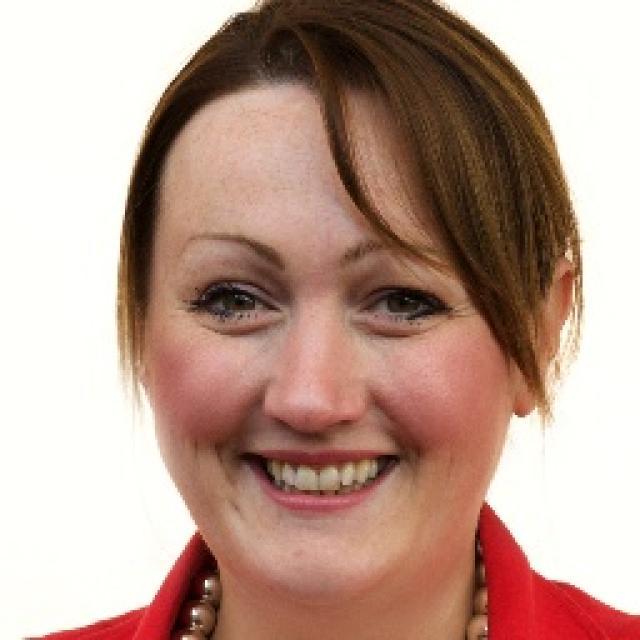earlobe: (509, 257, 578, 418)
